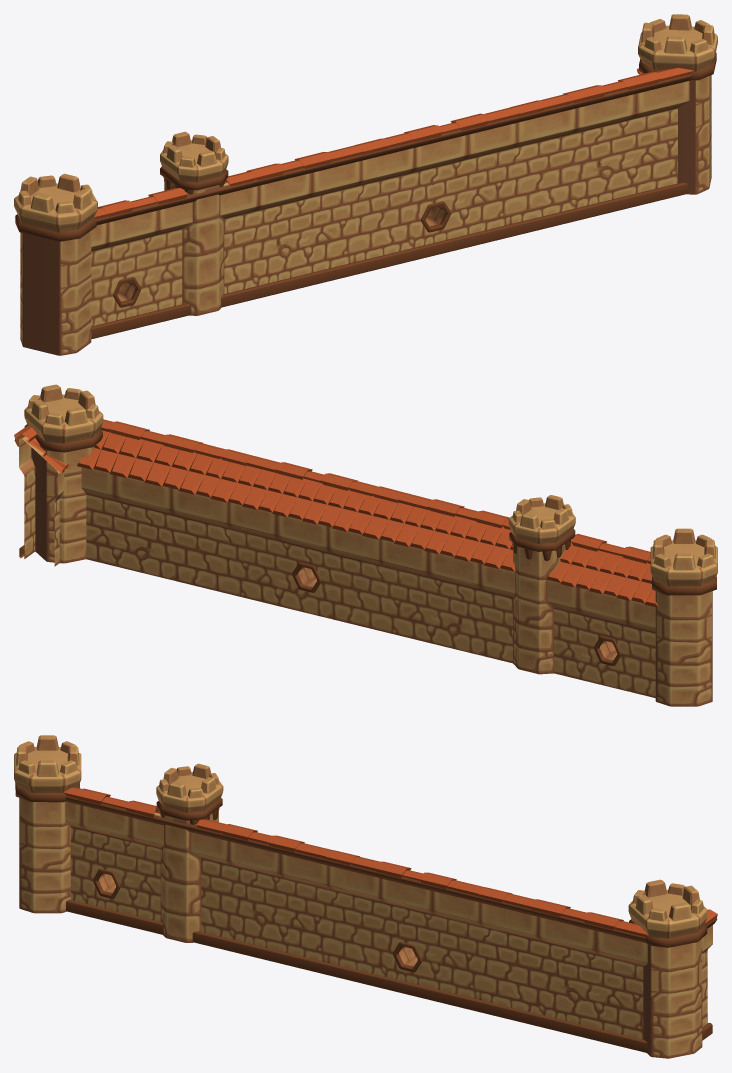
Rendered from wallSection_turn_2x1_glb.glb.
3 renders of one model, top to bottom at view 1: azimuth 30°, elevation 25°; view 2: azimuth 150°, elevation 25°; view 3: azimuth 330°, elevation 25°, orthographic. The views are drawn at different scales.
Visible parts, largest first — view 1: wallSection_turn_2x1; view 2: wallSection_turn_2x1; view 3: wallSection_turn_2x1.
Part boxes in pixels (x1,y1,x2,y2): wallSection_turn_2x1: [14, 14, 717, 355]; wallSection_turn_2x1: [14, 384, 717, 706]; wallSection_turn_2x1: [14, 735, 717, 1058].
Size of what is drawn, in the model's own units: 35.96 by 7.85 by 4.42.
1 material, 1 textured.
